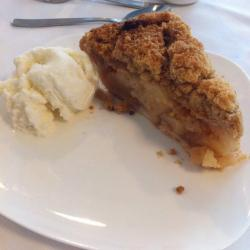apple_pie: (80, 11, 245, 171)
icecream: (1, 41, 100, 137)
